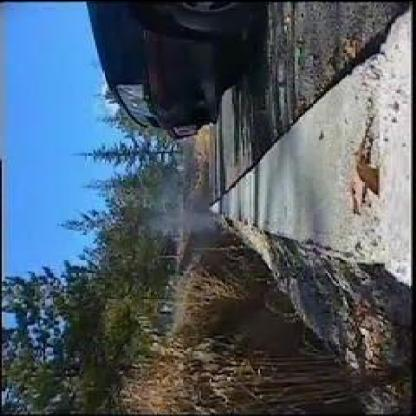-: (153, 192, 221, 234)
